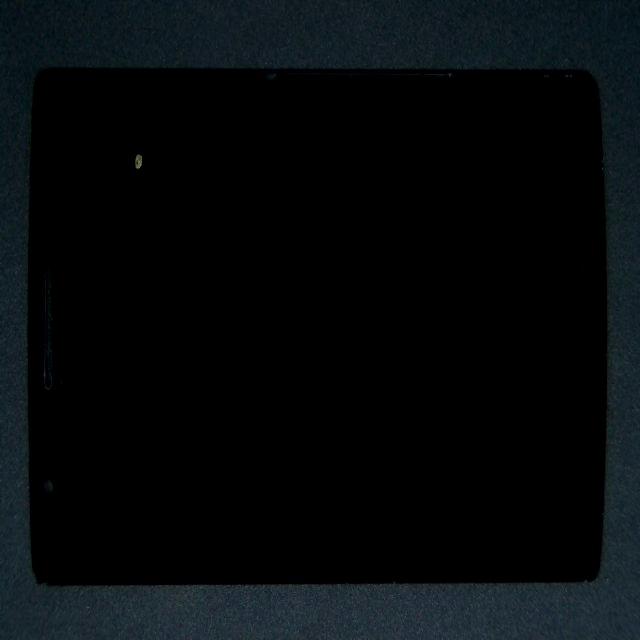stain: (32, 88, 197, 264)
